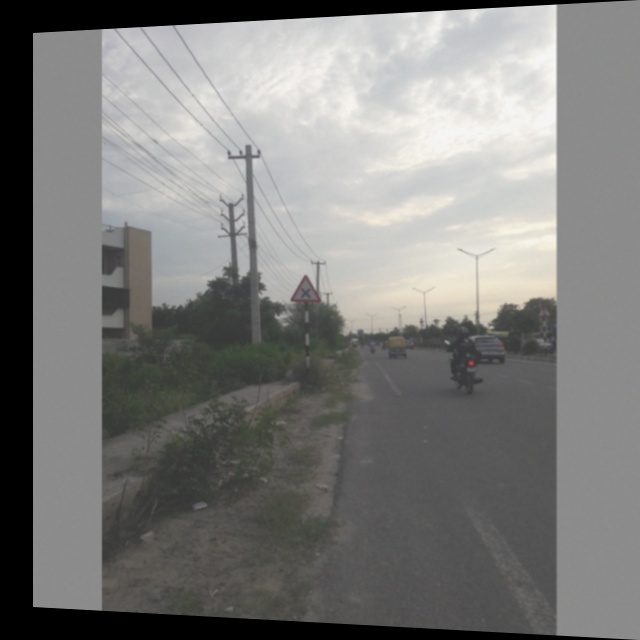Cross_Road: (288, 268, 323, 305)
